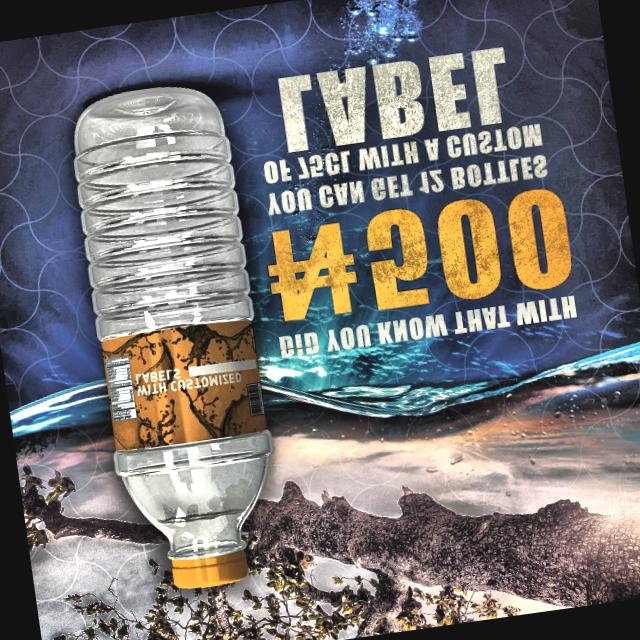plastic bottle: (73, 86, 272, 589)
